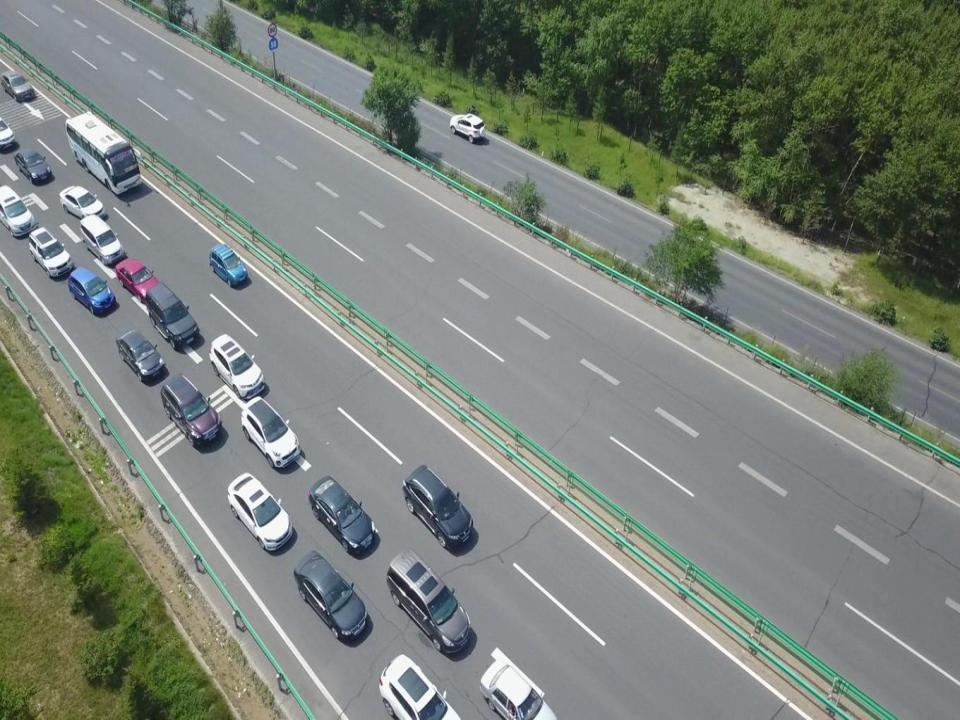bus: (65, 110, 143, 195)
car: (386, 550, 472, 654), (292, 551, 366, 642), (403, 467, 473, 553), (308, 474, 376, 554), (379, 654, 462, 718), (227, 474, 292, 552), (478, 660, 557, 720), (161, 374, 223, 450), (240, 397, 302, 467), (146, 284, 200, 352), (210, 335, 264, 401), (116, 329, 165, 383), (68, 268, 115, 318), (115, 256, 160, 308), (79, 214, 124, 266), (28, 225, 70, 279), (207, 245, 245, 290), (59, 185, 104, 223), (0, 186, 33, 236), (14, 147, 54, 186), (449, 113, 487, 144), (2, 70, 36, 102), (0, 118, 16, 148)
